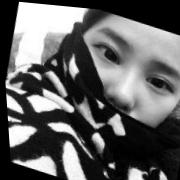WRONG: (51, 9, 180, 153)
